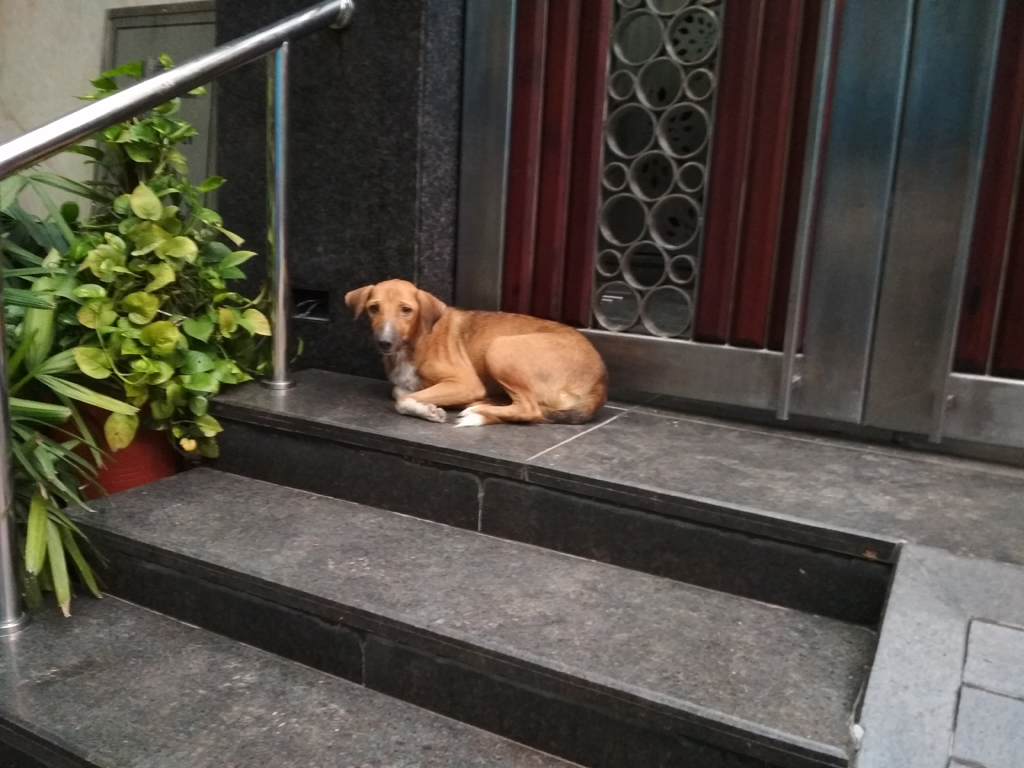dog: (344, 279, 609, 427)
